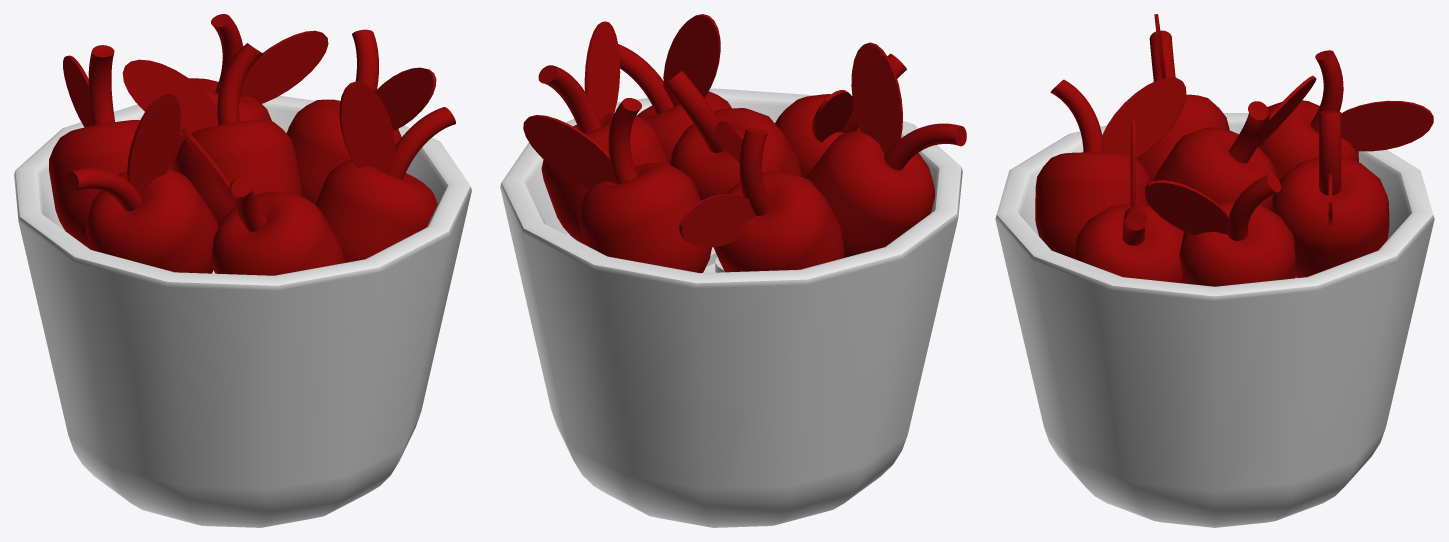
File: New_Fruit_Basket.fbx
3 views of the same model, side by side, from view 1: azimuth 30°, elevation 25°; view 2: azimuth 150°, elevation 25°; view 3: azimuth 270°, elevation 25° (orthographic). The views are drawn at different scales.
Visible parts, largest first — view 1: Basket1, Apples; view 2: Basket1, Apples; view 3: Basket1, Apples.
Boxes of the visible parts, x1=… form: Basket1: x1=14, y1=95, x2=471, y2=527; Apples: x1=49, y1=14, x2=455, y2=275; Basket1: x1=500, y1=88, x2=962, y2=527; Apples: x1=523, y1=14, x2=966, y2=273; Basket1: x1=995, y1=113, x2=1434, y2=527; Apples: x1=1035, y1=14, x2=1433, y2=286.
Bounding box in the file's own units: 37.32 × 39.26 × 37.17.
